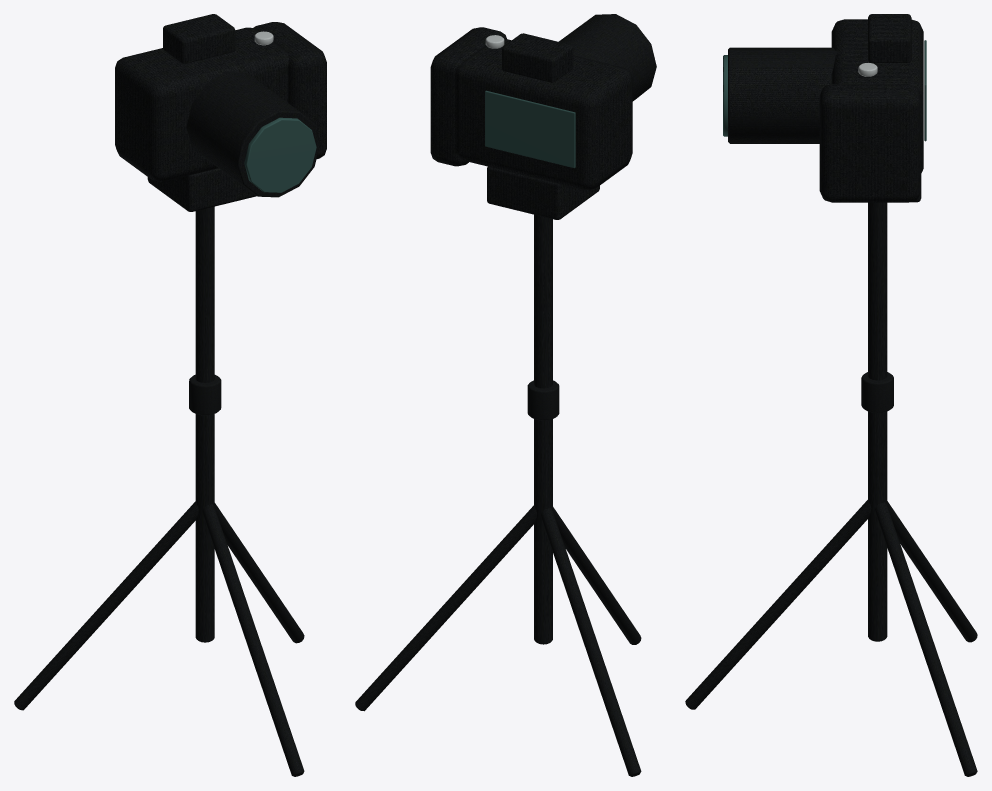
The model's file is photo-camera-tripod-v1.glb.
3 views of the same model, side by side, from view 1: azimuth 30°, elevation 25°; view 2: azimuth 150°, elevation 25°; view 3: azimuth 270°, elevation 25° (orthographic). The views are drawn at different scales.
Parts seen in each view (by area): view 1: Telescopic stand; view 2: Telescopic stand; view 3: Telescopic stand.
Boxes of the visible parts, box(x1,y1,x2,y2) form: Telescopic stand: box(14, 14, 326, 776); Telescopic stand: box(355, 14, 656, 776); Telescopic stand: box(685, 14, 977, 776).
Bounding box in the file's own units: 0.6943 × 1.56 × 0.6052.
Materials: 3 (1 with a texture image).
